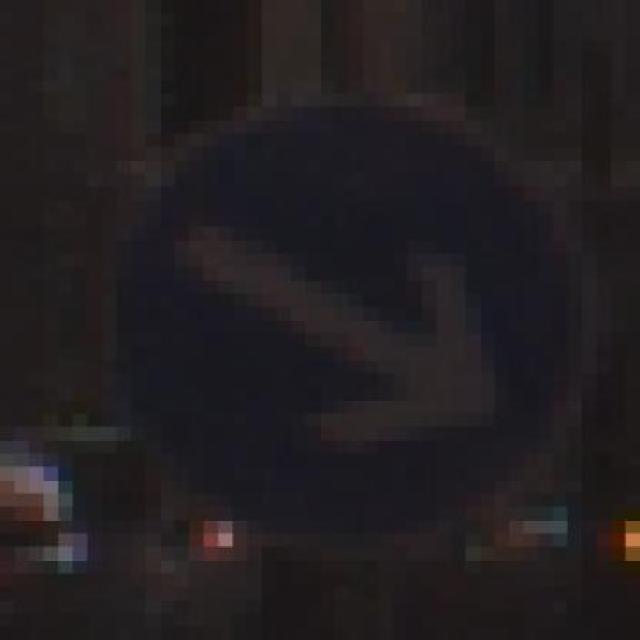Keep-Right: (72, 93, 597, 573)
